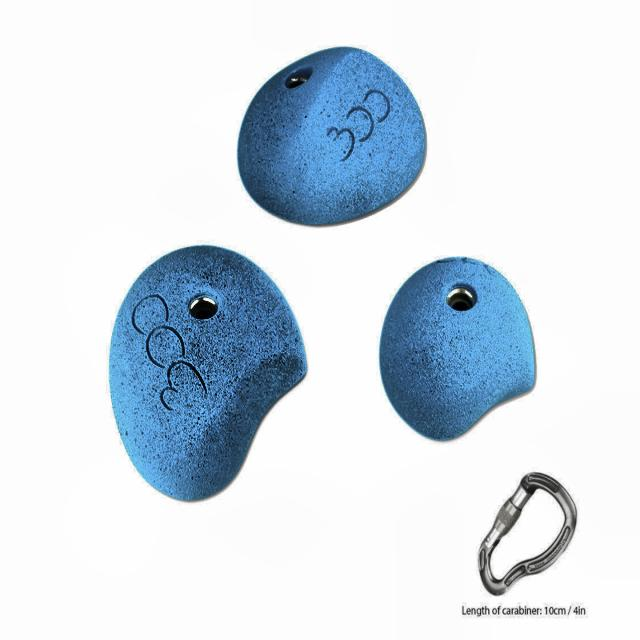Hold: (106, 244, 310, 502), (236, 48, 426, 226), (378, 255, 536, 442)
